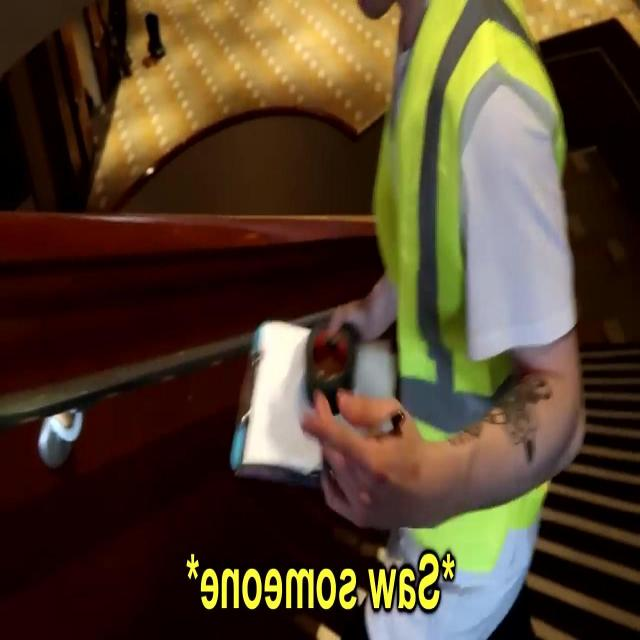Reflective-Jacket: (364, 4, 581, 458)
